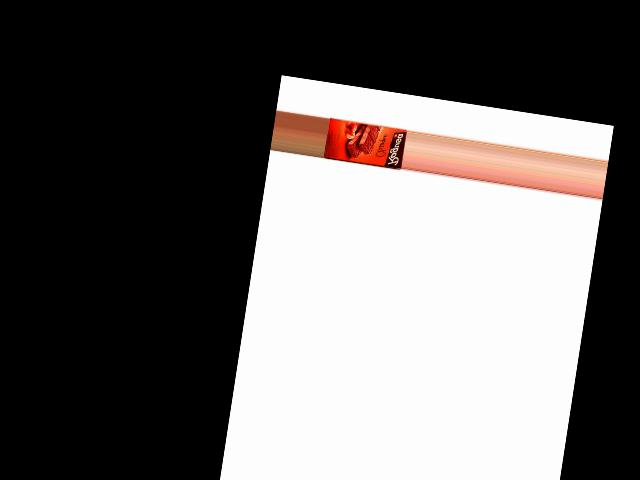chocolate: (322, 113, 406, 171)
